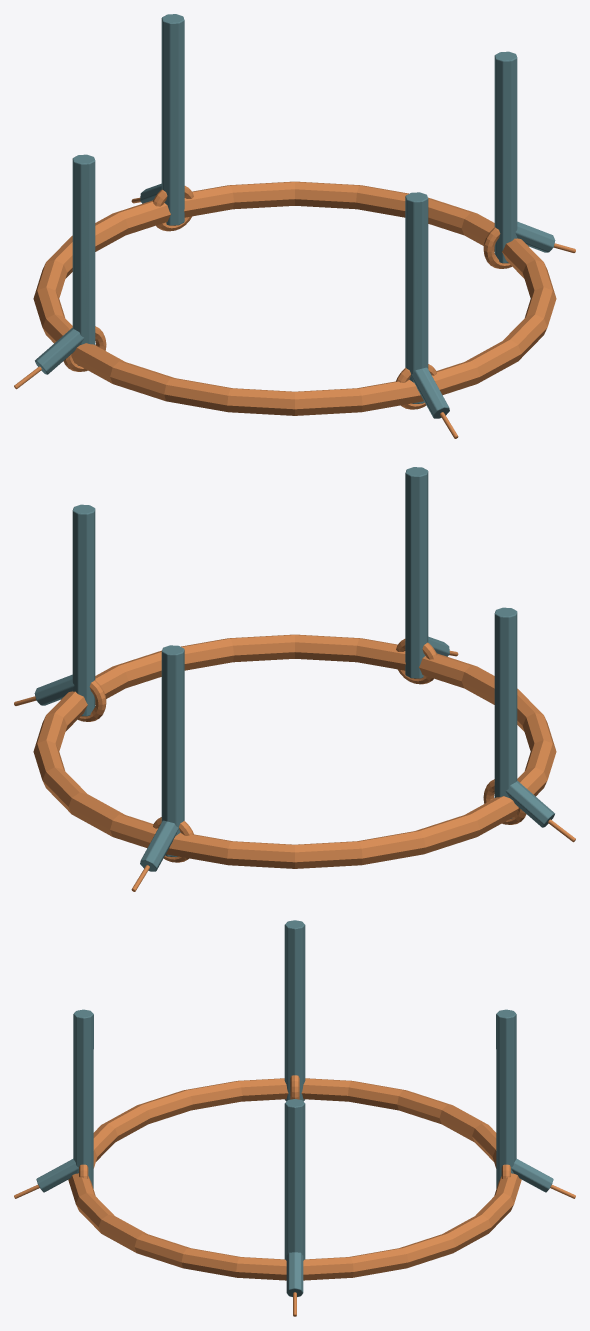
Rendered from micro_reactor_manifold_d3.glb.
The picture shows the model from 3 angles, top to bottom: view 1: azimuth 30°, elevation 25°; view 2: azimuth 150°, elevation 25°; view 3: azimuth 270°, elevation 25°; orthographic projection. The views are drawn at different scales.
Visible parts, largest first — view 1: Manifold ring.007, Coolant riser.029, Coolant riser.028, Coolant riser.030, Coolant riser.031, Ruptured coolant line.014, Ruptured coolant line.015, Ruptured coolant line.012; view 2: Manifold ring.007, Coolant riser.031, Coolant riser.028, Coolant riser.030, Coolant riser.029, Ruptured coolant line.014, Ruptured coolant line.013, Ruptured coolant line.012; view 3: Manifold ring.007, Coolant riser.030, Coolant riser.028, Coolant riser.029, Coolant riser.031, Ruptured coolant line.012, Ruptured coolant line.013, Ruptured coolant line.015.
Boxes of the visible parts, box(x1,y1,x2,y2) form: Manifold ring.007: box(33, 181, 556, 415); Coolant riser.029: box(161, 14, 184, 225); Coolant riser.028: box(494, 51, 517, 263); Coolant riser.030: box(72, 154, 95, 365); Coolant riser.031: box(405, 192, 428, 403); Ruptured coolant line.014: box(35, 327, 83, 374); Ruptured coolant line.015: box(411, 367, 449, 418); Ruptured coolant line.012: box(515, 221, 555, 252); Manifold ring.007: box(33, 634, 556, 868); Coolant riser.031: box(405, 467, 428, 678); Coolant riser.028: box(72, 504, 95, 716); Coolant riser.030: box(494, 607, 517, 818); Coolant riser.029: box(161, 645, 184, 856); Ruptured coolant line.014: box(506, 780, 554, 827); Ruptured coolant line.013: box(140, 820, 178, 871); Ruptured coolant line.012: box(34, 674, 74, 705); Manifold ring.007: box(68, 1078, 521, 1280); Coolant riser.030: box(284, 920, 305, 1101); Coolant riser.028: box(284, 1099, 305, 1260); Coolant riser.029: box(496, 1009, 516, 1188); Coolant riser.031: box(73, 1009, 93, 1188); Ruptured coolant line.012: box(286, 1252, 303, 1296); Ruptured coolant line.013: box(511, 1159, 553, 1192); Ruptured coolant line.015: box(36, 1159, 78, 1192).
Bounding box in the file's own units: 6.51 × 2.37 × 6.51.
